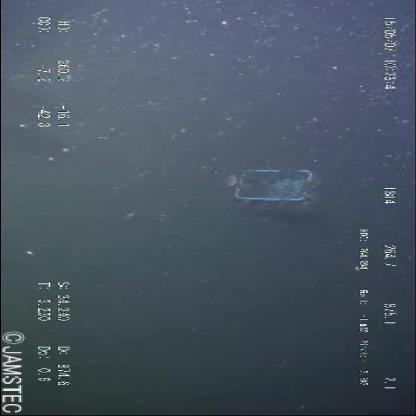Rác: (219, 162, 325, 204)
